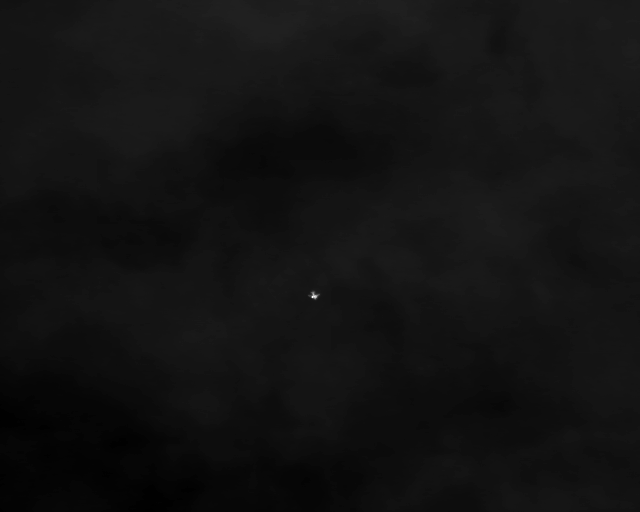Target: (309, 292, 321, 301)
